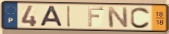4: (21, 4, 39, 28)
A: (39, 6, 65, 28)
C: (130, 6, 152, 30)
F: (87, 6, 105, 28)
I: (66, 5, 72, 29)
N: (107, 6, 130, 29)
